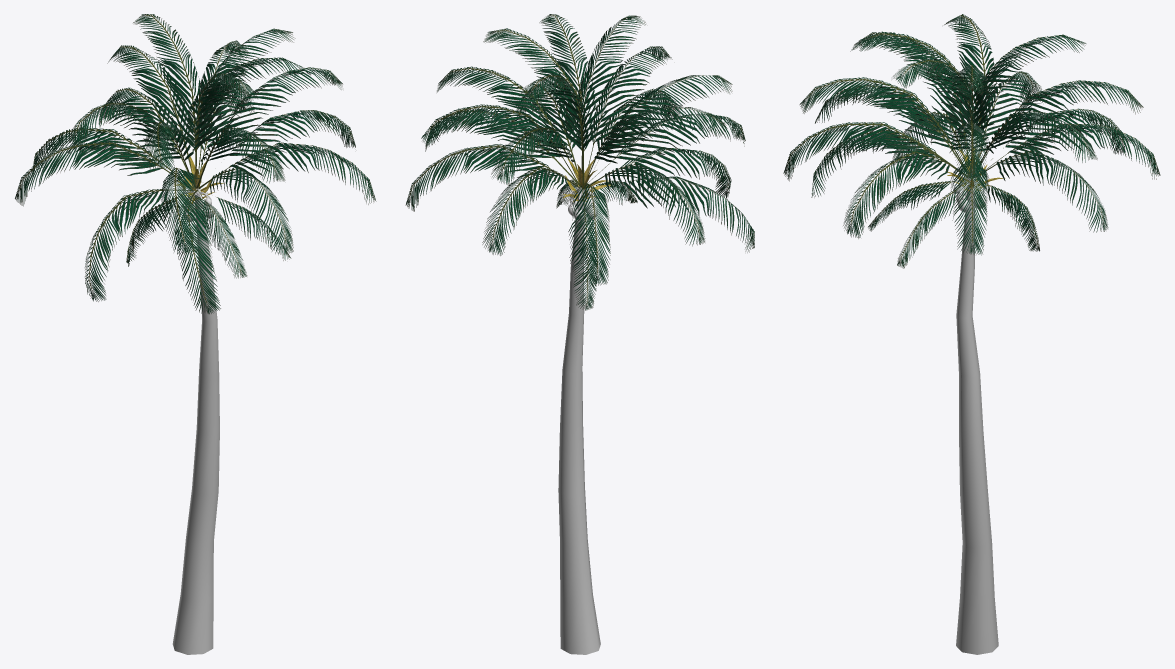
File: coconut_palm.FBX
The picture shows the model from 3 angles, left to right: view 1: azimuth 30°, elevation 25°; view 2: azimuth 150°, elevation 25°; view 3: azimuth 270°, elevation 25°; orthographic projection. The views are drawn at different scales.
Visible parts, largest first — view 1: leaves, stem; view 2: leaves, stem; view 3: leaves, stem.
Boxes of the visible parts, x1=… form: leaves: x1=15, y1=14, x2=376, y2=314; stem: x1=172, y1=188, x2=219, y2=654; leaves: x1=405, y1=14, x2=754, y2=310; stem: x1=558, y1=186, x2=600, y2=654; leaves: x1=783, y1=14, x2=1160, y2=268; stem: x1=956, y1=177, x2=998, y2=654.
Size of the model in its own units: 1557 by 2890 by 1613.
